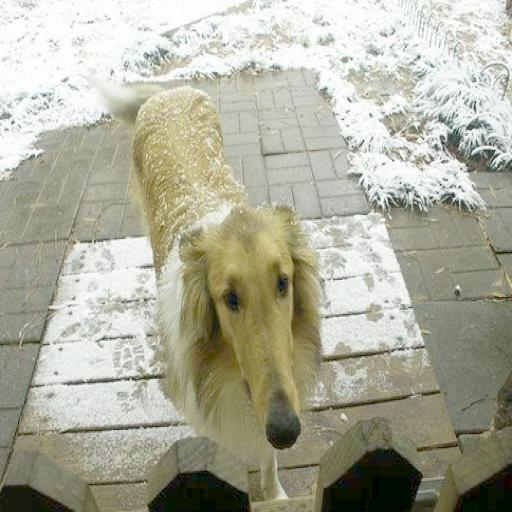dog_face: (180, 201, 331, 441)
